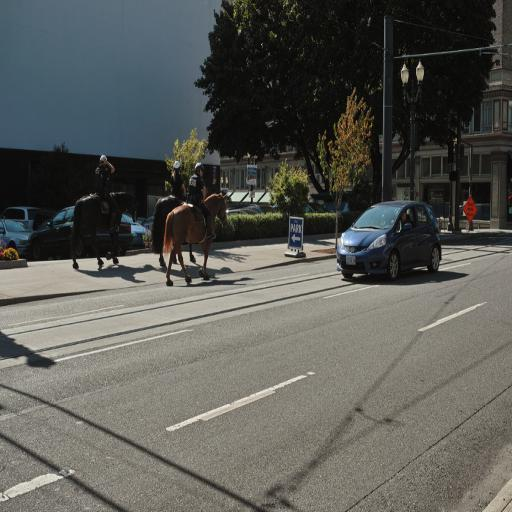horse: (162, 191, 228, 286), (73, 190, 138, 269), (154, 188, 196, 271)
